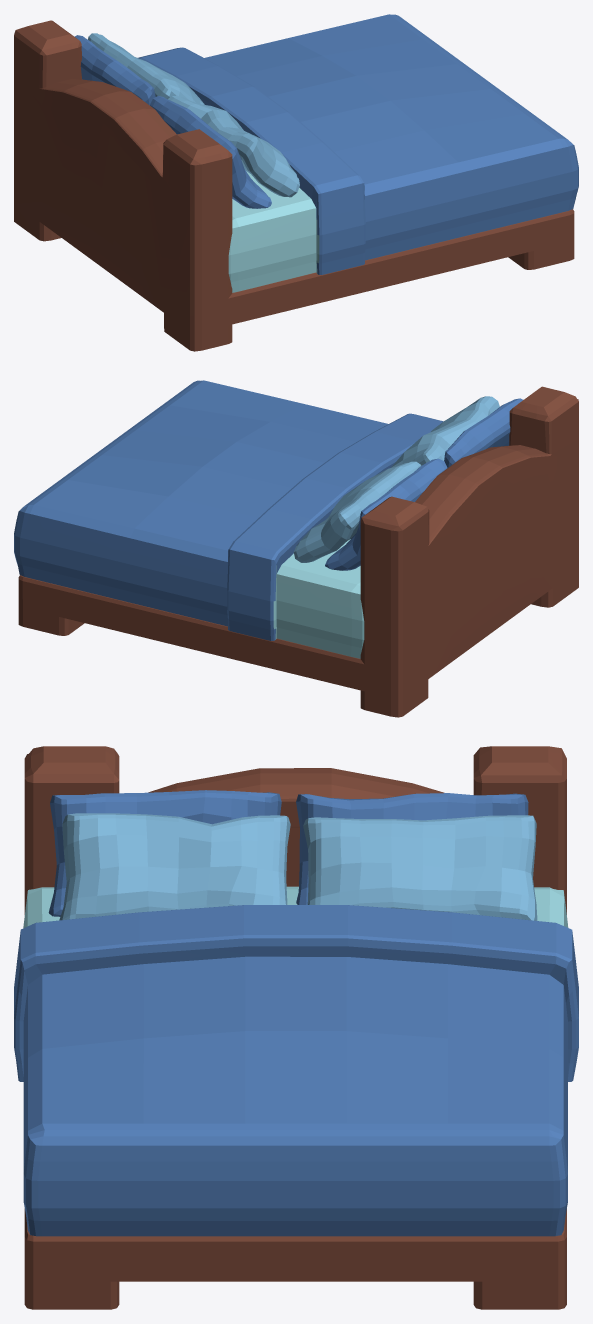
File: Bedroom_Bed.fbx
3 views of the same model, one above another, from view 1: azimuth 30°, elevation 25°; view 2: azimuth 150°, elevation 25°; view 3: azimuth 270°, elevation 25° (orthographic). The views are drawn at different scales.
Visible parts, largest first — view 1: Bedroom_Bed.003, Bedroom_Bed.001, Bedroom_Bed.002, Bedroom_Bed; view 2: Bedroom_Bed.003, Bedroom_Bed.001, Bedroom_Bed.002, Bedroom_Bed; view 3: Bedroom_Bed.003, Bedroom_Bed.001, Bedroom_Bed, Bedroom_Bed.002.
Boxes of the visible parts, x1=… form: Bedroom_Bed.003: x1=74, y1=14, x2=578, y2=274; Bedroom_Bed.001: x1=14, y1=20, x2=574, y2=351; Bedroom_Bed.002: x1=228, y1=171, x2=319, y2=292; Bedroom_Bed: x1=88, y1=33, x2=299, y2=197; Bedroom_Bed.003: x1=14, y1=380, x2=523, y2=640; Bedroom_Bed.001: x1=18, y1=386, x2=578, y2=717; Bedroom_Bed.002: x1=273, y1=539, x2=364, y2=658; Bedroom_Bed: x1=293, y1=396, x2=499, y2=562; Bedroom_Bed.003: x1=14, y1=790, x2=578, y2=1236; Bedroom_Bed.001: x1=24, y1=746, x2=566, y2=1309; Bedroom_Bed: x1=59, y1=813, x2=537, y2=920; Bedroom_Bed.002: x1=23, y1=886, x2=568, y2=928.
Size of the model in its own units: 169 by 96.3 by 200.
